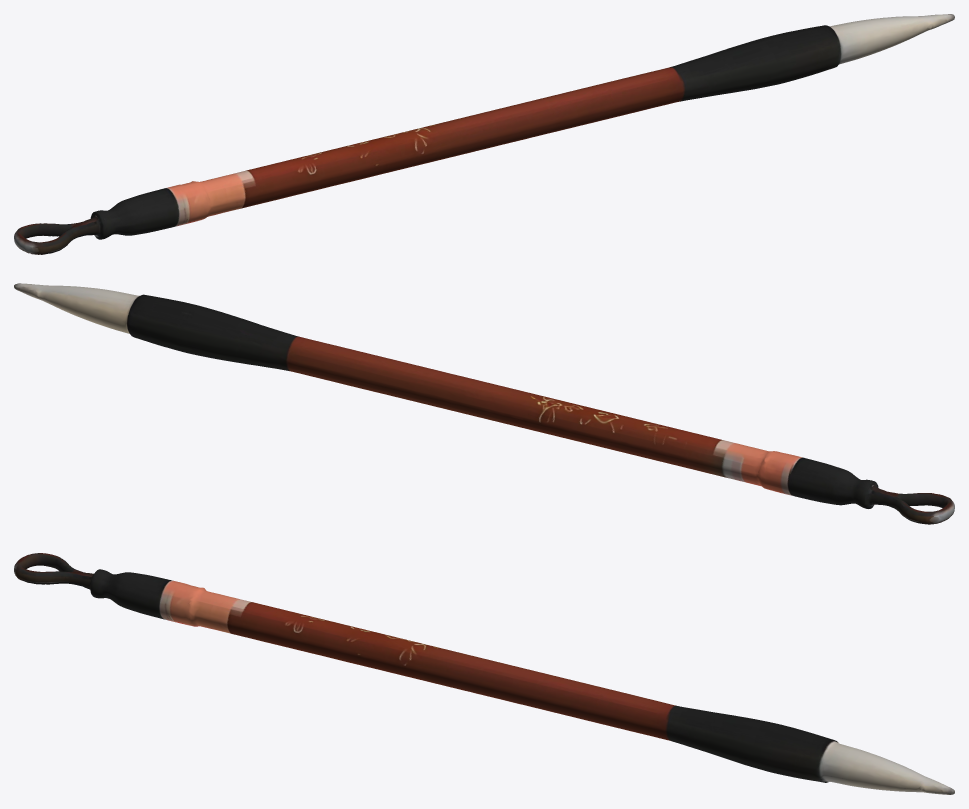
The model's file is maobi.glb.
3 renders of one model, top to bottom at view 1: azimuth 30°, elevation 25°; view 2: azimuth 150°, elevation 25°; view 3: azimuth 330°, elevation 25°, orthographic.
Visible parts, largest first — view 1: tripo_node_b270e404-5b87-4ae2-96c7-0d3be0ed6bd8; view 2: tripo_node_b270e404-5b87-4ae2-96c7-0d3be0ed6bd8; view 3: tripo_node_b270e404-5b87-4ae2-96c7-0d3be0ed6bd8.
Boxes of the visible parts, x1,y1,x2,y2 form: tripo_node_b270e404-5b87-4ae2-96c7-0d3be0ed6bd8: (14,14,954,254); tripo_node_b270e404-5b87-4ae2-96c7-0d3be0ed6bd8: (14,283,954,524); tripo_node_b270e404-5b87-4ae2-96c7-0d3be0ed6bd8: (14,553,954,794).
Bounding box in the file's own units: 0.9999 × 0.0459 × 0.0499.
1 material, 1 textured.
